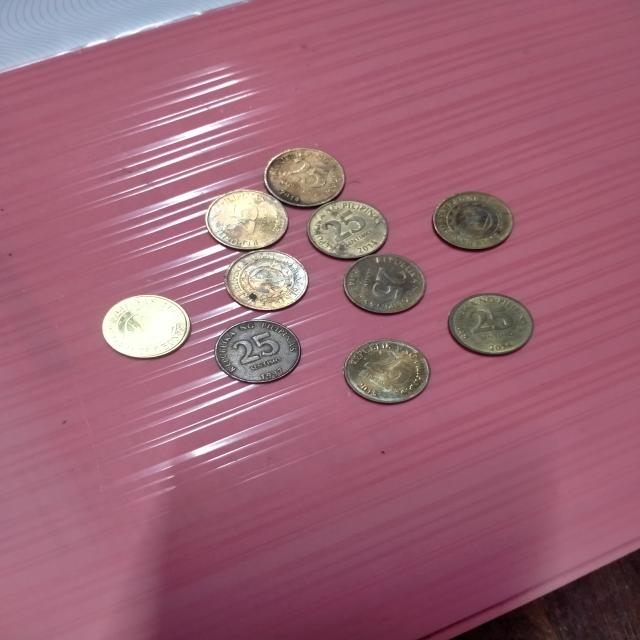25Cent_Old_Front: (307, 205, 379, 251)
